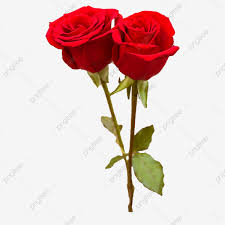lale: (46, 2, 138, 202), (112, 11, 178, 204)
